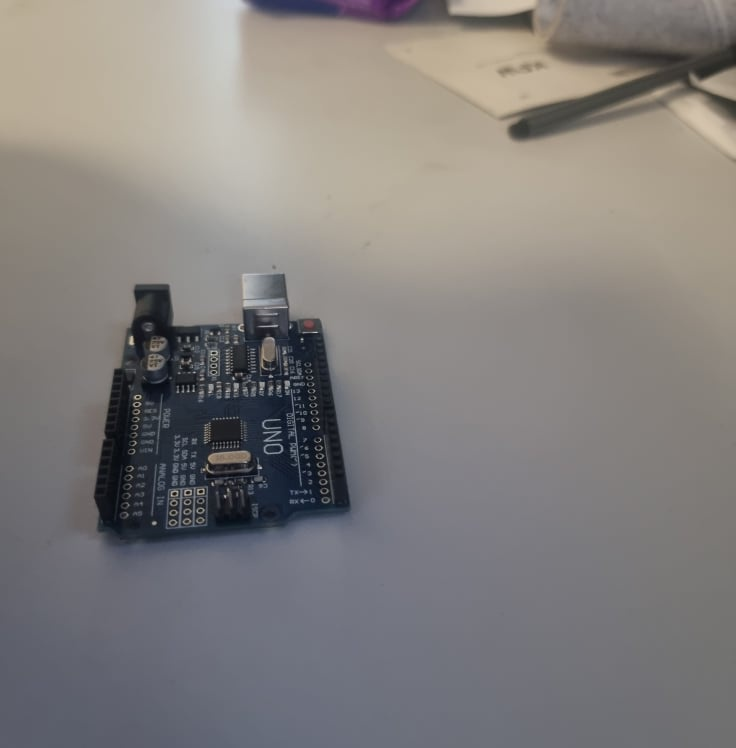UNO R3: (94, 269, 354, 540)
